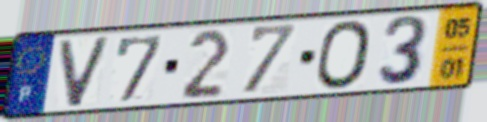2: (180, 27, 235, 103)
3: (375, 13, 432, 89)
7: (240, 21, 299, 98), (112, 32, 166, 104)
O: (314, 17, 375, 92)
V: (56, 34, 113, 110)
